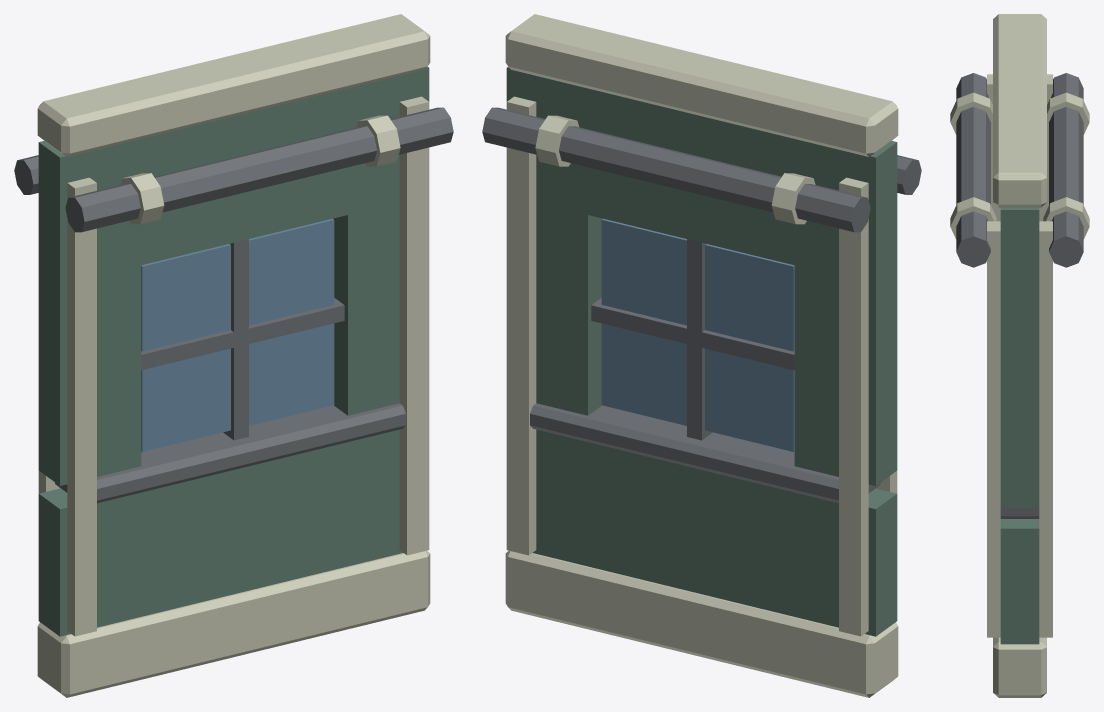
File: installation-dispersal-wall-window.glb
The picture shows the model from 3 angles, left to right: view 1: azimuth 30°, elevation 25°; view 2: azimuth 150°, elevation 25°; view 3: azimuth 270°, elevation 25°; orthographic projection. The views are drawn at different scales.
Visible parts, largest first — view 1: spandrel, head, glass, plinth, cornice, jamb_l, jamb_r, process_pipe, cladding_rib.002, cladding_rib, sill, transom (+4 smaller); view 2: spandrel, head, glass, plinth, cornice, jamb_l, jamb_r, process_pipe.001, cladding_rib.003, cladding_rib.001, sill, transom (+4 smaller); view 3: cornice, jamb_r, cladding_rib.002, cladding_rib.003, process_pipe, process_pipe.001, spandrel, head, plinth, pipe_collar, pipe_collar.002, pipe_collar.001 (+4 smaller).
Boxes of the visible parts, x1=… form: spandrel: x1=38, y1=429, x2=403, y2=636; head: x1=38, y1=66, x2=429, y2=284; glass: x1=141, y1=218, x2=334, y2=451; plinth: x1=37, y1=550, x2=430, y2=697; cornice: x1=37, y1=14, x2=430, y2=156; jamb_l: x1=38, y1=265, x2=141, y2=485; jamb_r: x1=333, y1=202, x2=399, y2=415; process_pipe: x1=65, y1=107, x2=453, y2=232; cladding_rib.002: x1=399, y1=96, x2=429, y2=555; cladding_rib: x1=67, y1=177, x2=96, y2=636; sill: x1=55, y1=403, x2=405, y2=503; transom: x1=141, y1=298, x2=344, y2=370; spandrel: x1=532, y1=429, x2=897, y2=636; head: x1=506, y1=66, x2=897, y2=284; glass: x1=601, y1=218, x2=794, y2=451; plinth: x1=505, y1=550, x2=898, y2=697; cornice: x1=505, y1=14, x2=898, y2=156; jamb_l: x1=794, y1=265, x2=897, y2=485; jamb_r: x1=536, y1=202, x2=602, y2=415; process_pipe.001: x1=482, y1=107, x2=870, y2=232; cladding_rib.003: x1=506, y1=96, x2=536, y2=555; cladding_rib.001: x1=839, y1=177, x2=868, y2=636; sill: x1=530, y1=403, x2=880, y2=503; transom: x1=591, y1=298, x2=794, y2=370; cornice: x1=993, y1=14, x2=1046, y2=207; jamb_r: x1=1000, y1=325, x2=1039, y2=507; cladding_rib.002: x1=987, y1=221, x2=1000, y2=637; cladding_rib.003: x1=1039, y1=221, x2=1052, y2=637; process_pipe: x1=956, y1=73, x2=990, y2=267; process_pipe.001: x1=1049, y1=73, x2=1083, y2=267; spandrel: x1=1000, y1=519, x2=1039, y2=644; head: x1=1000, y1=207, x2=1039, y2=325; plinth: x1=993, y1=637, x2=1046, y2=697; pipe_collar: x1=950, y1=92, x2=992, y2=134; pipe_collar.002: x1=1047, y1=92, x2=1089, y2=134; pipe_collar.001: x1=950, y1=197, x2=996, y2=239.
Bounding box in the file's own units: 1 × 1.5 × 0.36.
